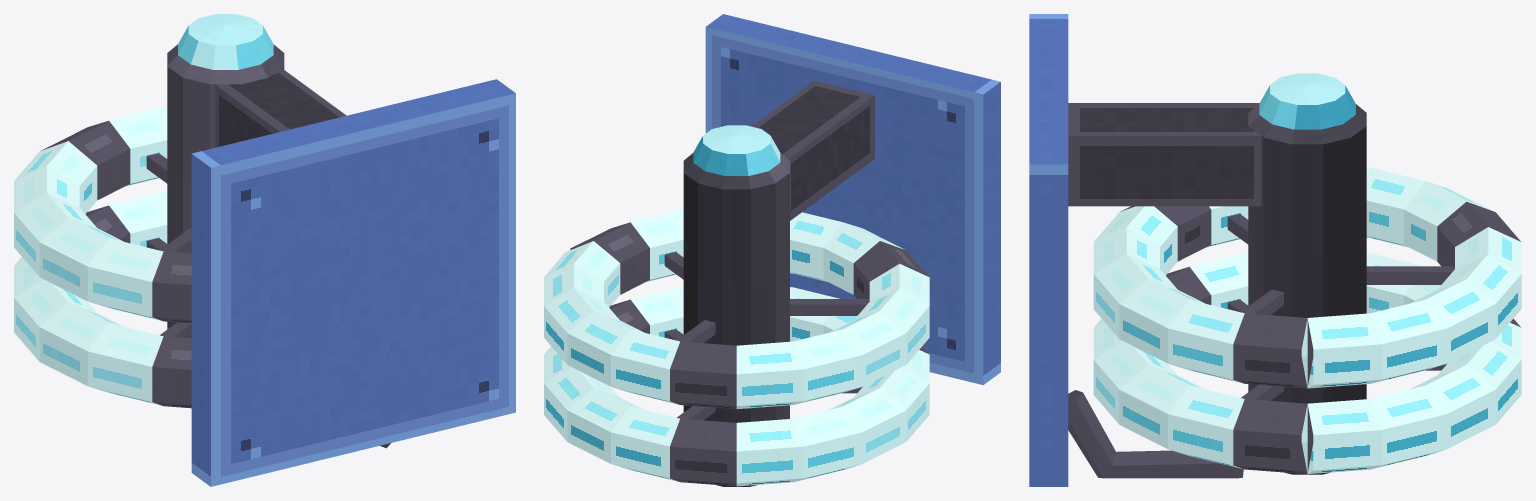
Rendered from wireless.glb.
3 views of the same model, side by side, from view 1: azimuth 30°, elevation 25°; view 2: azimuth 150°, elevation 25°; view 3: azimuth 270°, elevation 25° (orthographic). The views are drawn at different scales.
Visible parts, largest first — view 1: wireless_body, wireless_ring; view 2: wireless_body, wireless_ring; view 3: wireless_ring, wireless_body.
Part boxes in pixels (x1,y1,x2,y2): wireless_body: (167, 14, 515, 486); wireless_ring: (14, 107, 191, 408); wireless_body: (683, 14, 1000, 486); wireless_ring: (544, 210, 929, 486); wireless_ring: (1093, 167, 1521, 474); wireless_body: (1029, 14, 1366, 486).
Size of the model in its own units: 0.7803 by 0.7498 by 0.8847.
Materials: 1 (1 with a texture image).
